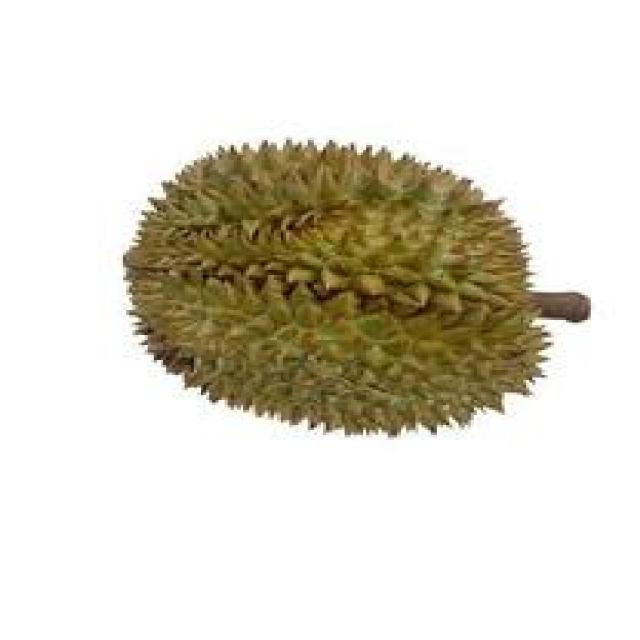fruit: (98, 100, 450, 490)
